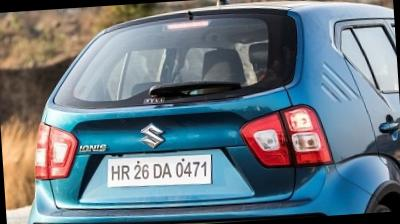plate: (102, 141, 223, 200)
